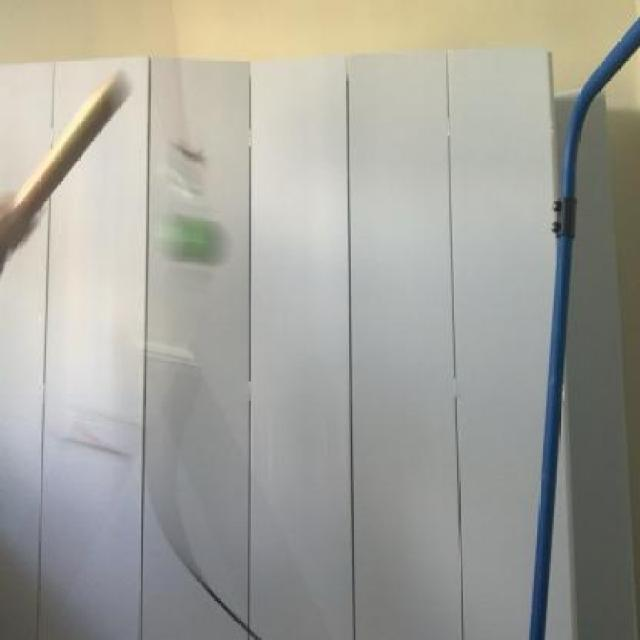baseball: (154, 208, 246, 282)
